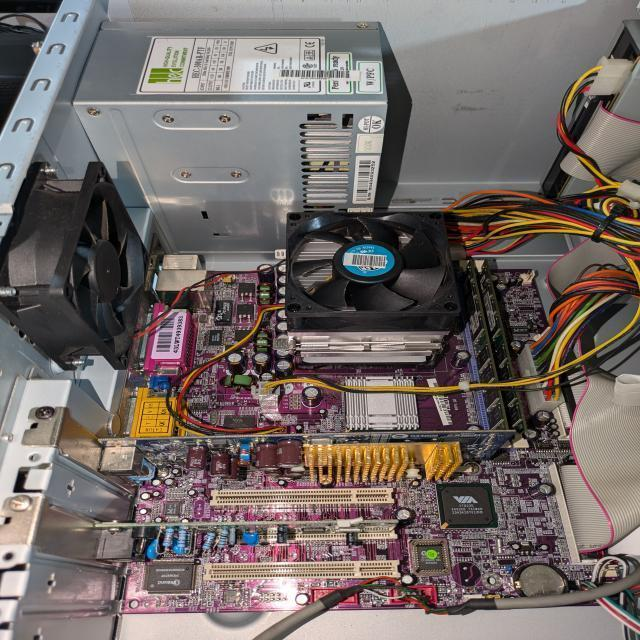CPU_Fan: (287, 209, 462, 368)
Mainboard: (117, 269, 628, 615)
PSU: (72, 20, 389, 252)
RAM: (476, 260, 526, 432), (462, 260, 512, 430)
